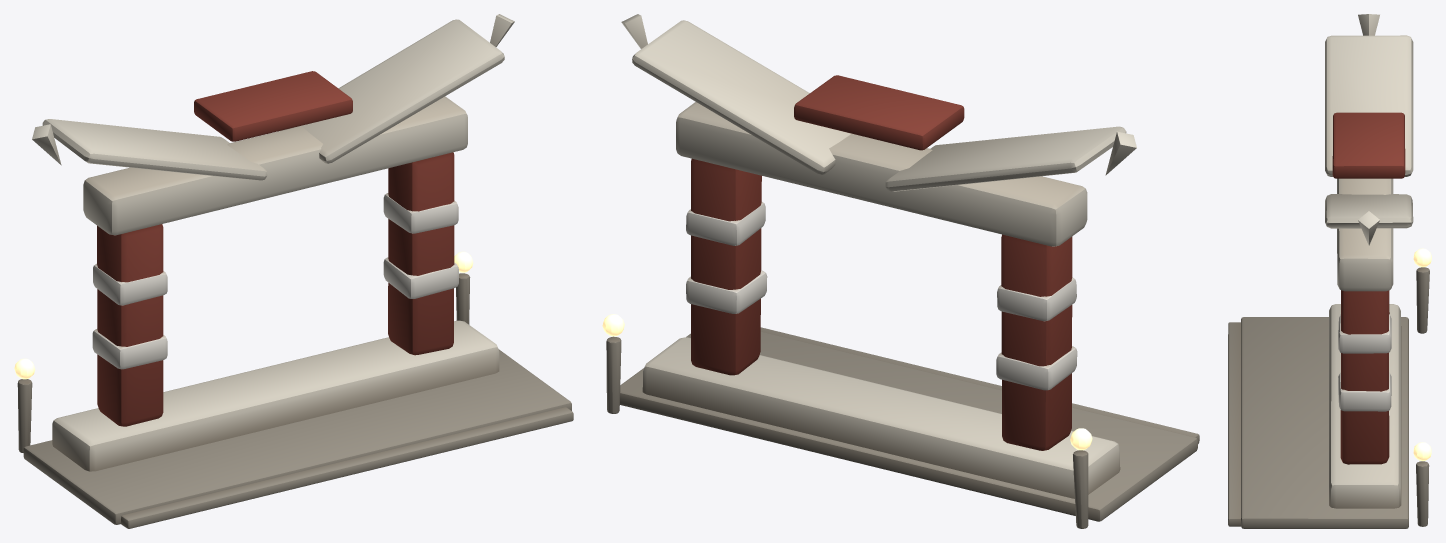
3 views of the same model, side by side, from view 1: azimuth 30°, elevation 25°; view 2: azimuth 150°, elevation 25°; view 3: azimuth 270°, elevation 25° (orthographic). The views are drawn at different scales.
Parts seen in each view (by area): view 1: gate_b9565ea5; view 2: gate_b9565ea5; view 3: gate_b9565ea5.
Part boxes in pixels (<box>): gate_b9565ea5: <box>14,14,573,528</box>; gate_b9565ea5: <box>602,14,1199,528</box>; gate_b9565ea5: <box>1228,14,1431,528</box>.
Size of the model in its own units: 6.31 by 4.37 by 2.55.
